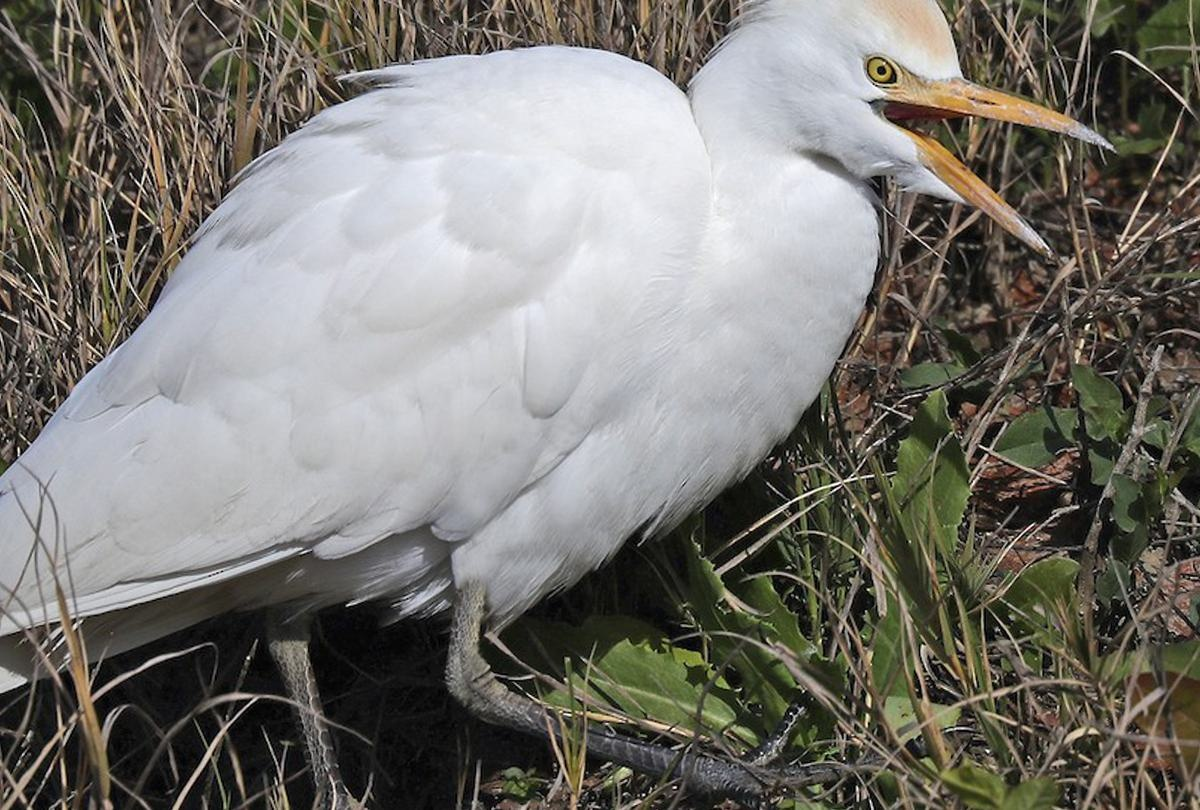egret: (1, 4, 1093, 786)
